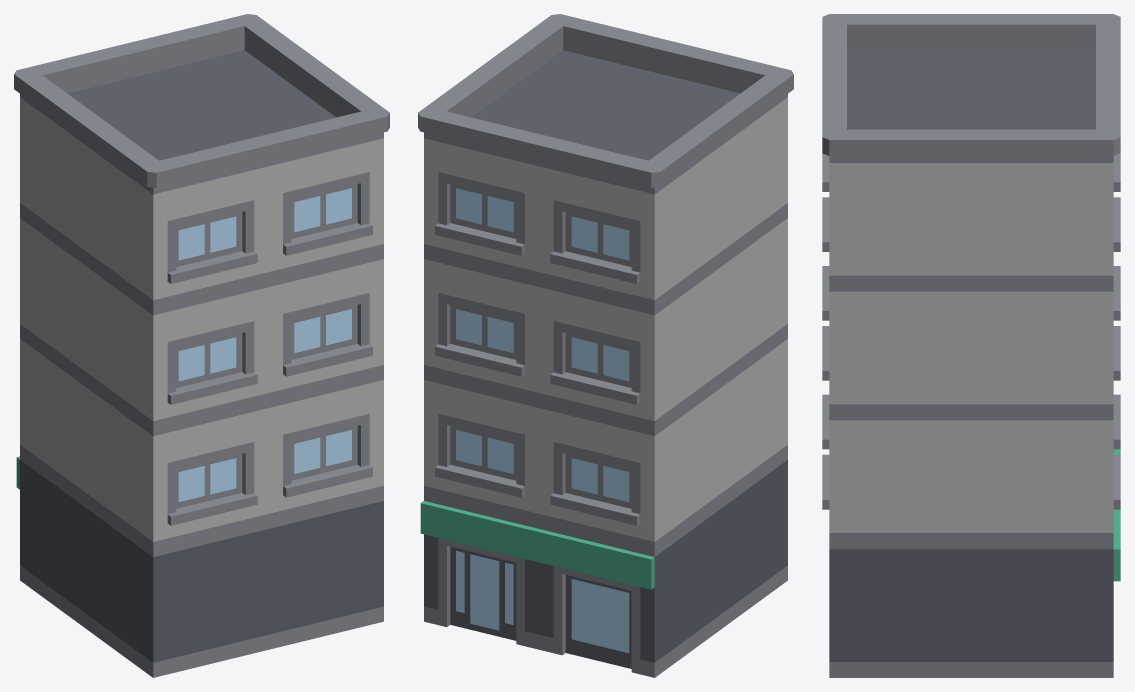
File: large_buildingB.dae
3 renders of one model, left to right at view 1: azimuth 30°, elevation 25°; view 2: azimuth 150°, elevation 25°; view 3: azimuth 270°, elevation 25°, orthographic. The views are drawn at different scales.
Visible parts, largest first — view 1: large_buildingB; view 2: large_buildingB; view 3: large_buildingB.
Part boxes in pixels (x1,y1,x2,y2): large_buildingB: (14,14,389,677); large_buildingB: (418,14,793,677); large_buildingB: (822,14,1120,677).
Size of the model in its own units: 0.84 by 1.68 by 0.84.
